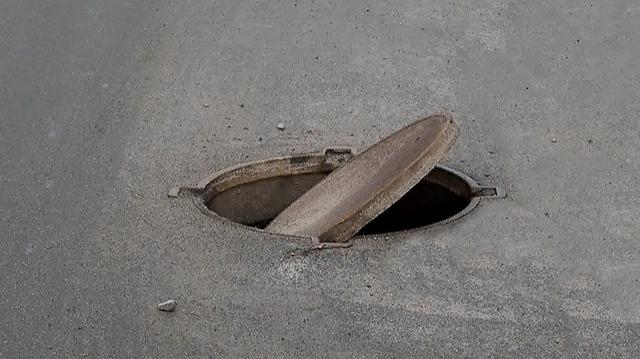wellcover: (151, 108, 515, 254)
